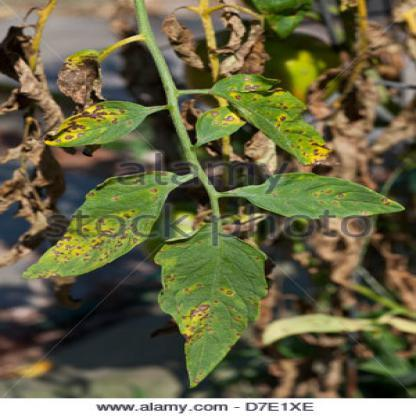Tomato Septoria leaf spot: (150, 216, 280, 390), (18, 165, 175, 286), (202, 66, 344, 162), (233, 165, 415, 230), (38, 96, 170, 152)
